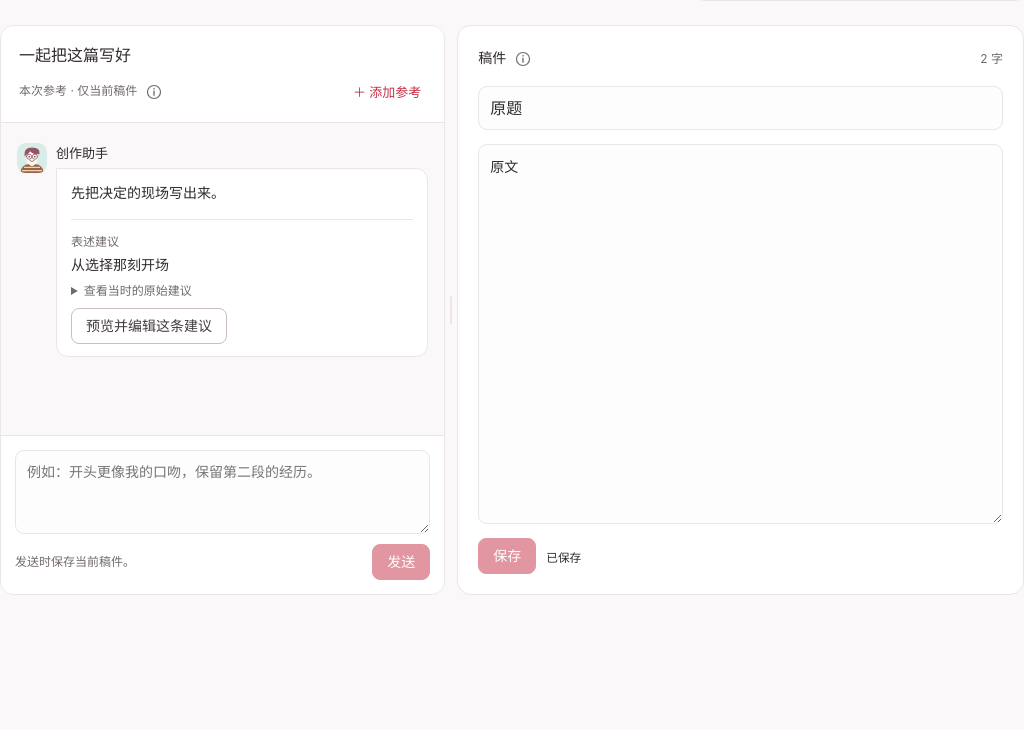
Test: lets the author apply a title suggestion locally without changing the body
This screenshot has width=1024, height=730.
Click the button "预览并编辑这条建议".
click(149, 326)  # box top-left (71, 308), bottom-right (227, 344)
(page scrolled)
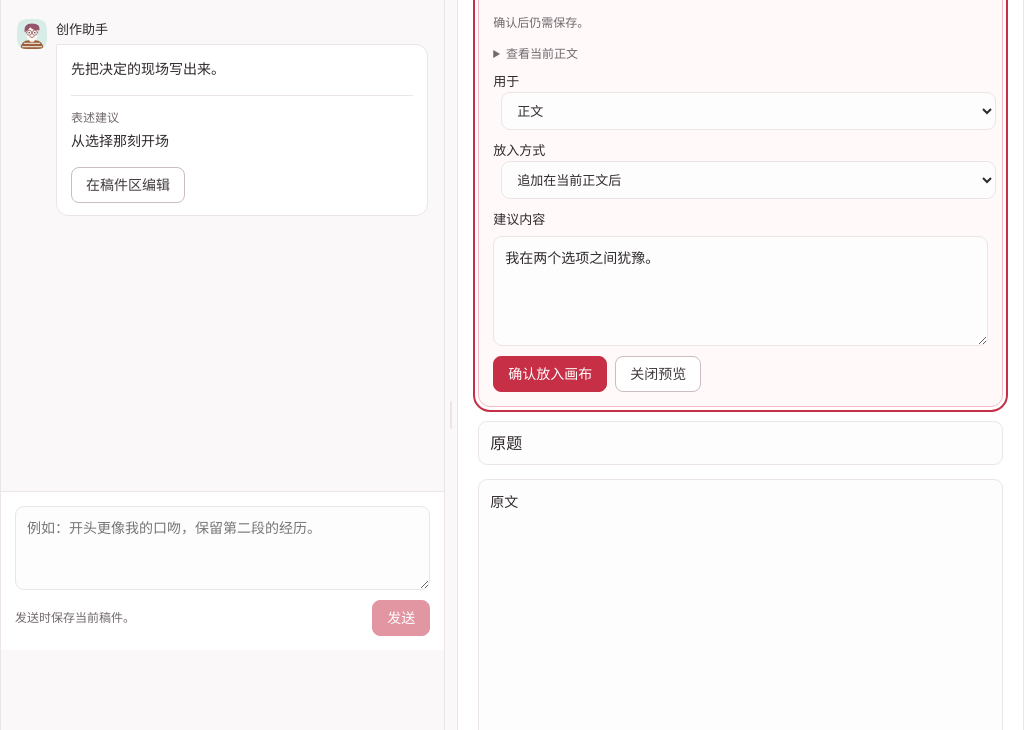
Select "标题" in the dropdown named "建议用于" at (749, 111), box top-left (501, 92), bottom-right (996, 130)
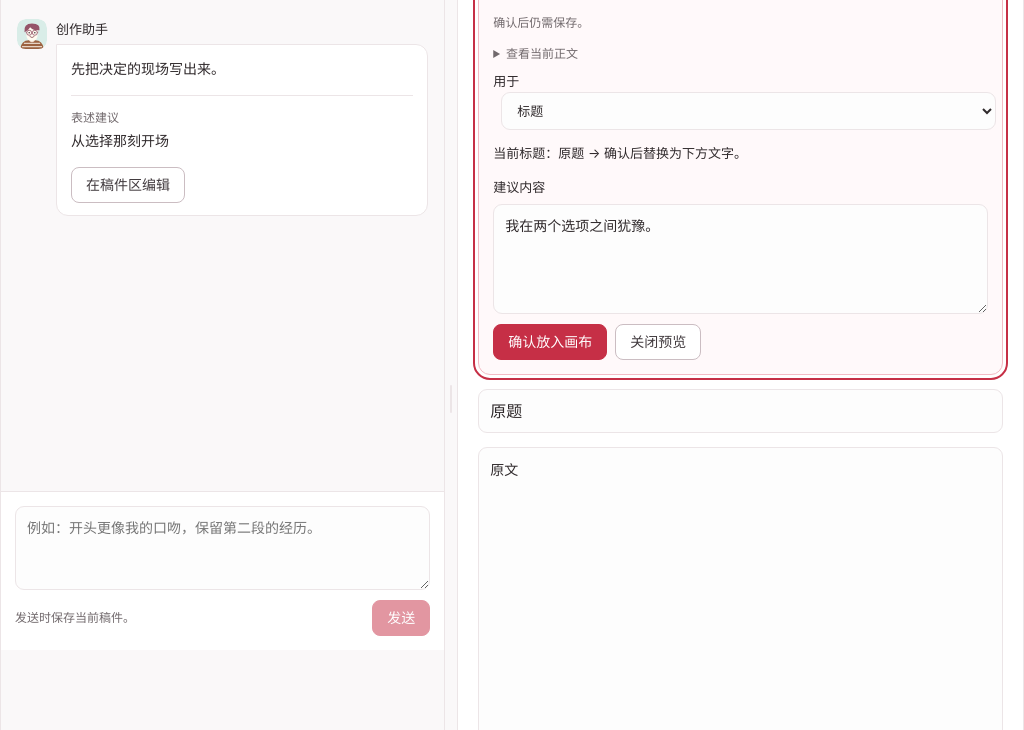
Replace the text in the text box named "编辑写作建议" with "我的新标题" at (741, 259), box top-left (493, 204), bottom-right (988, 314)
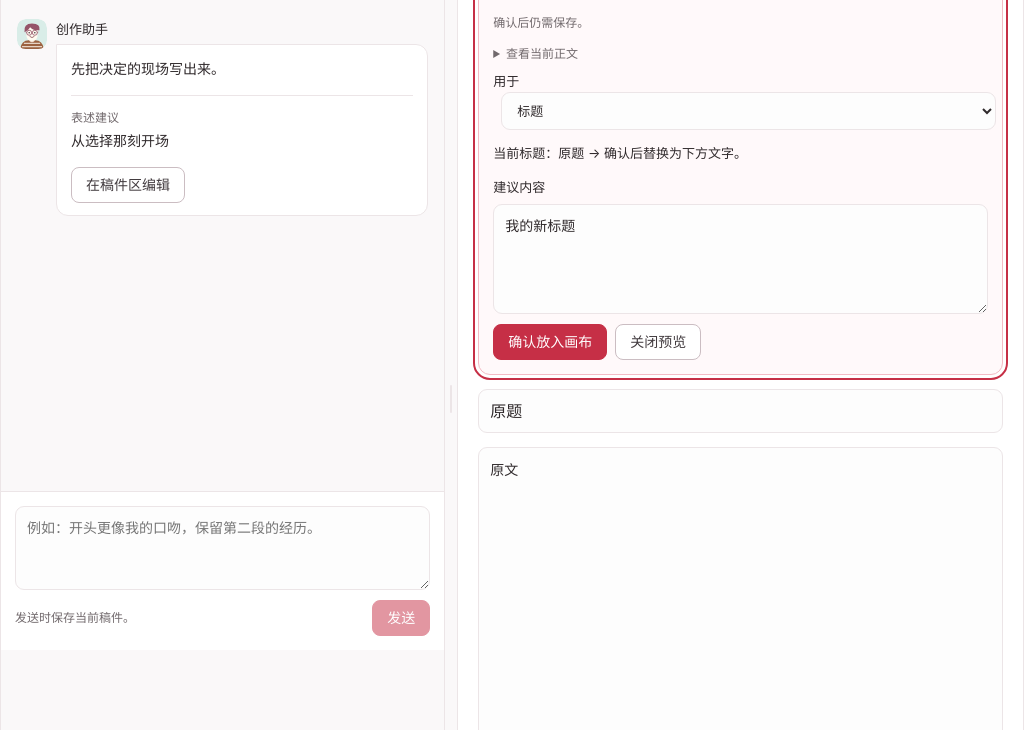
Click the button "确认放入画布".
click(550, 342)  # box top-left (493, 324), bottom-right (607, 360)
(page scrolled)
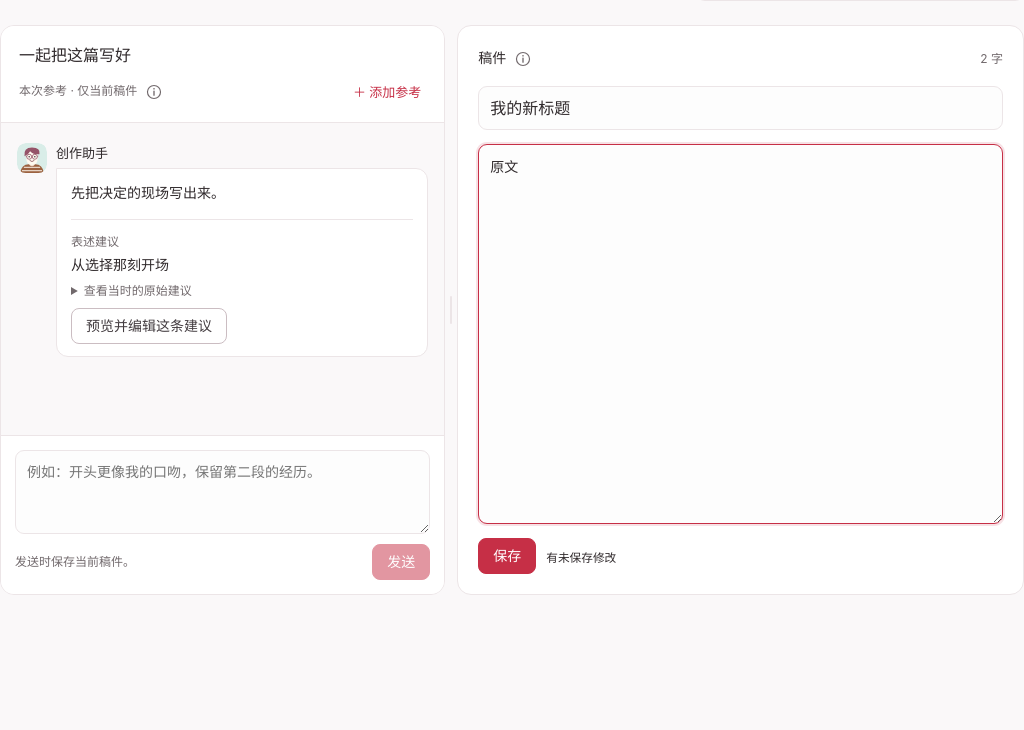
expect the text box named "创作正文" holds "原文": met, box top-left (478, 144), bottom-right (1003, 524)
expect the field named "创作标题" holds "我的新标题": met, box top-left (478, 86), bottom-right (1003, 130)
